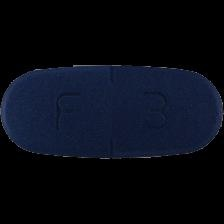16714-697: (0, 0, 224, 224)
